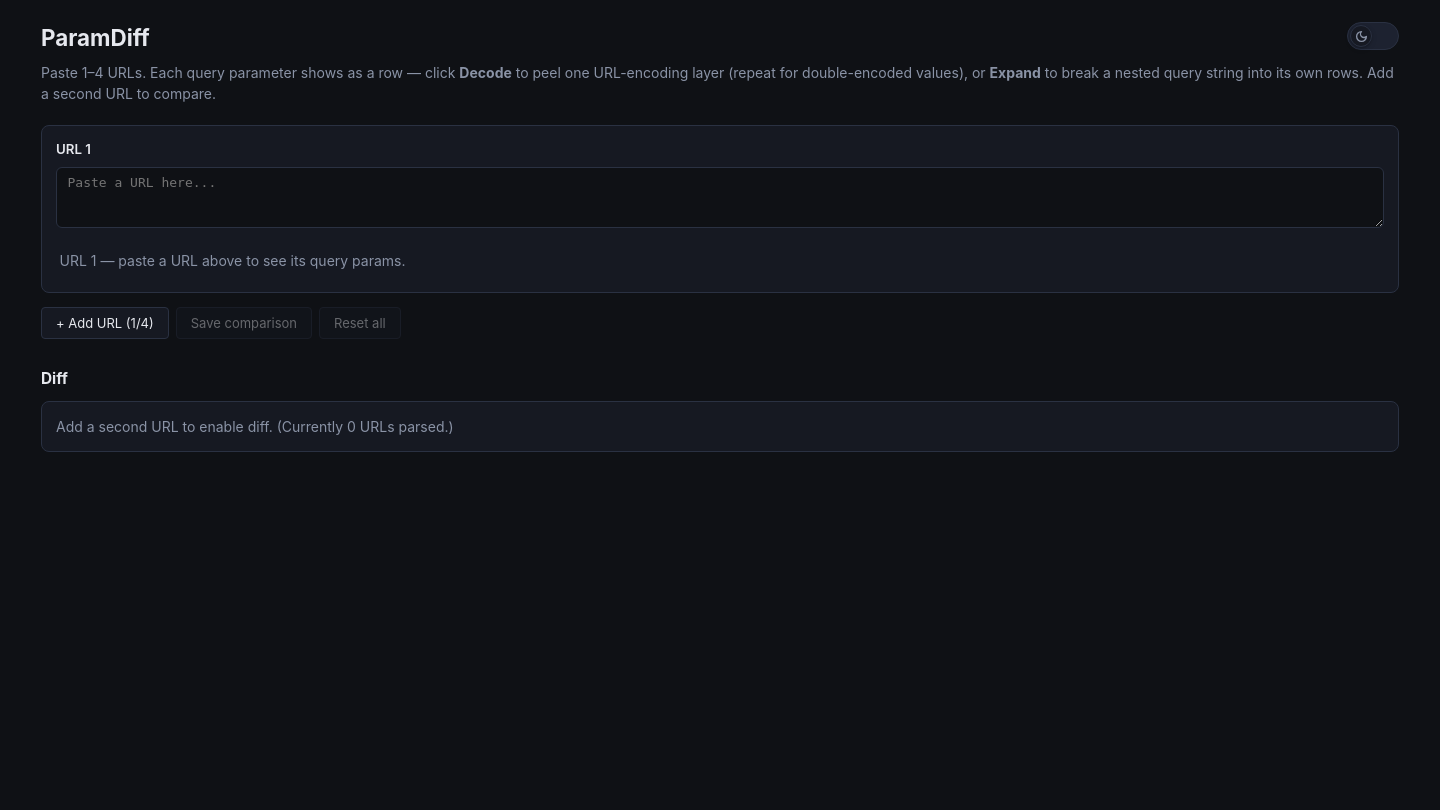
Test case: App — end-to-end interaction › parses a pasted URL into rows and updates the diff after Decode
This screenshot has width=1440, height=810.
Step 1. Click the button "+ Add URL (1/4)" → point(105, 323), box [41,307,169,339]
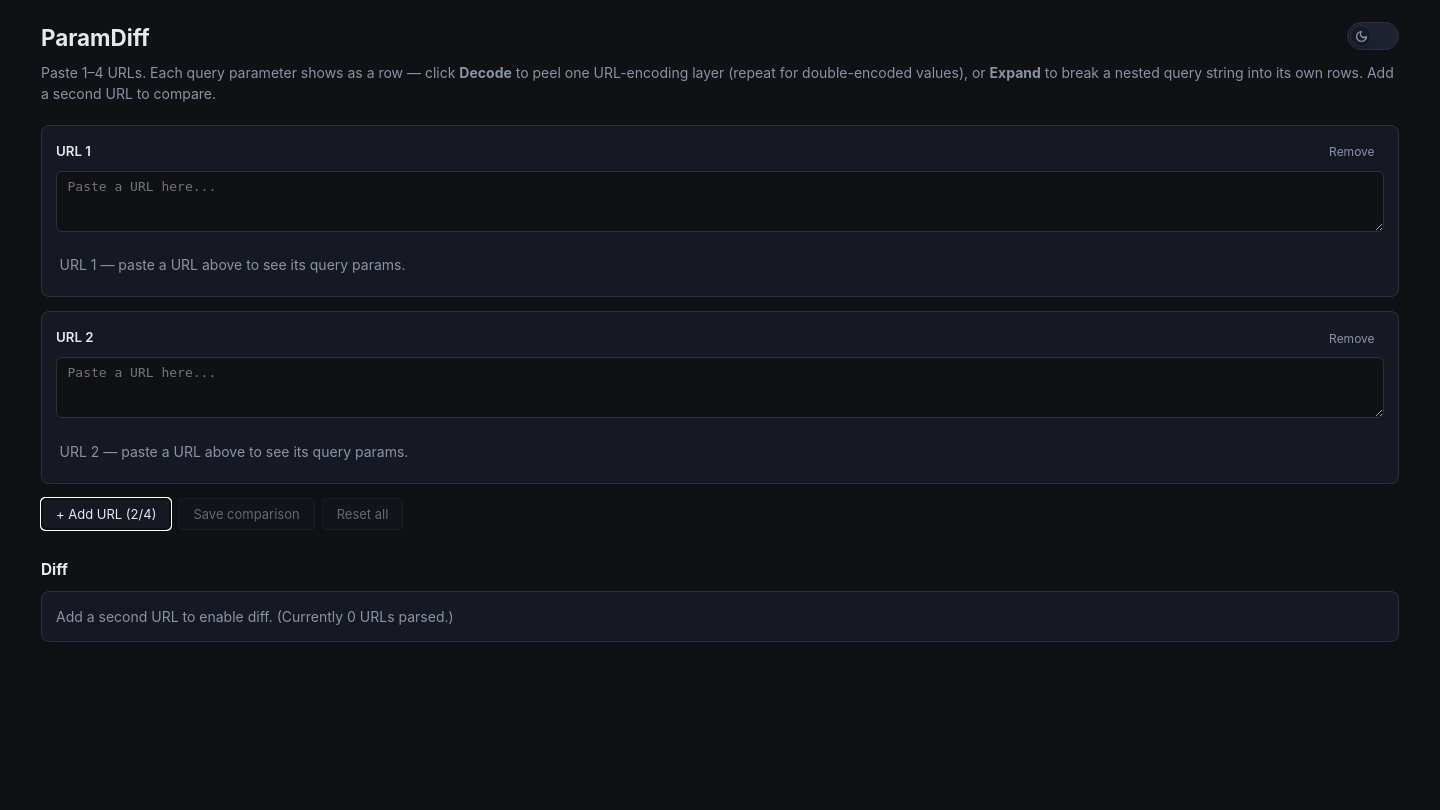
// Two URLs that differ only by URL-encoding of "hello world".
Step 2. Type "https://x.com/?q=hello%20world" into the text box labelled "URL 1" → point(720, 201), box [56,171,1384,232]
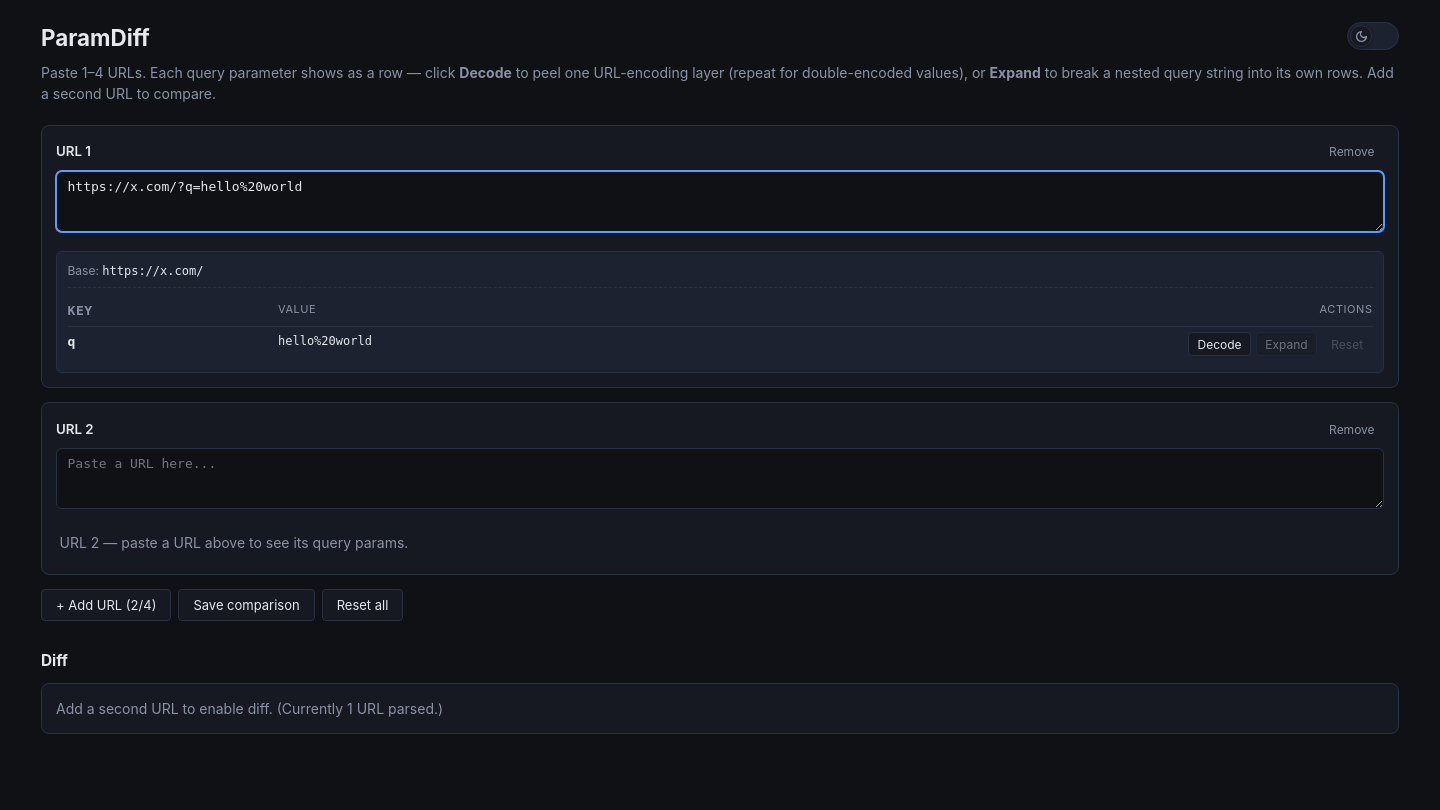
Step 3. Type "https://y.com/?q=hello world" into the text box labelled "URL 2" → point(720, 479), box [56,448,1384,510]
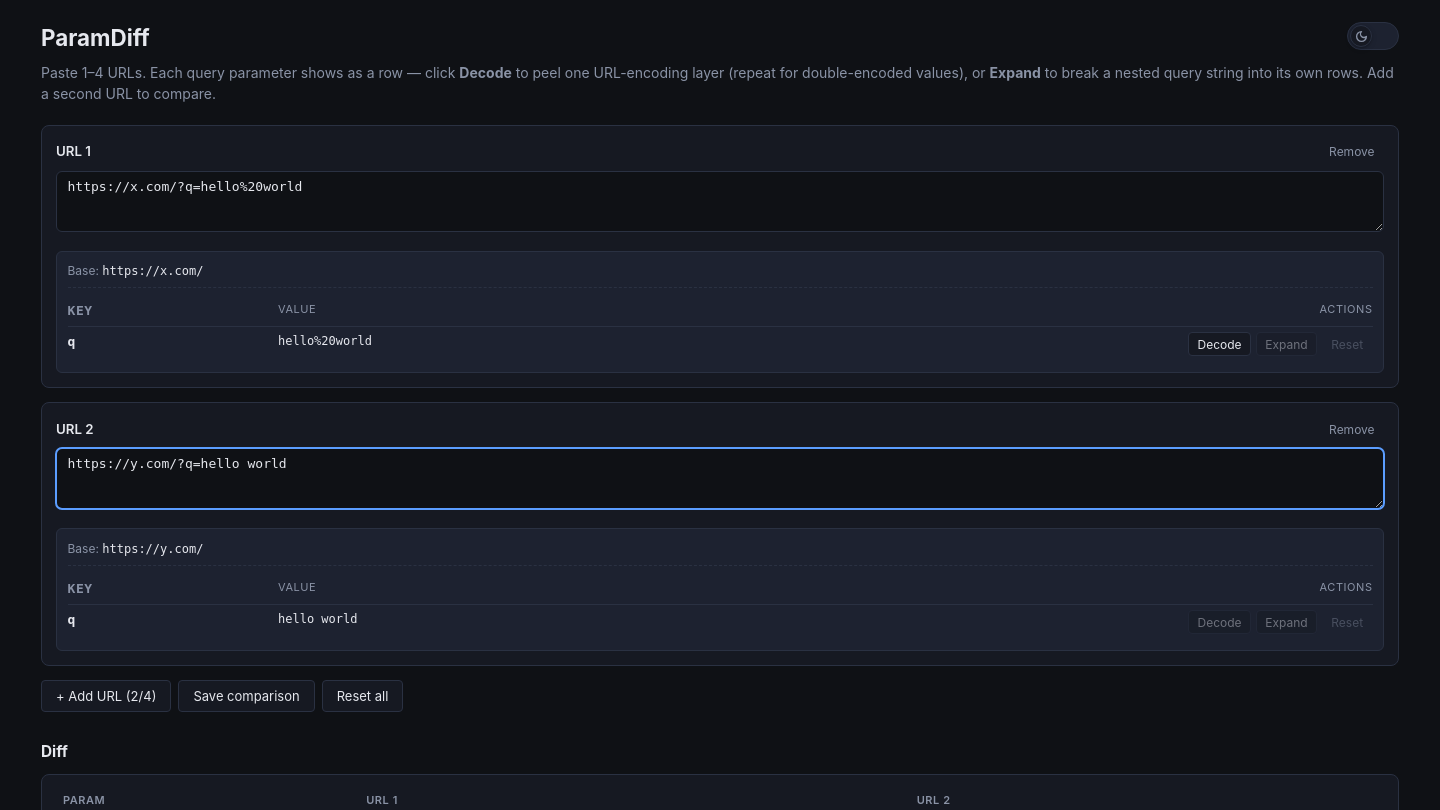
// Click Decode on URL 1 — there are two Decode buttons (one per slot).
Step 4. Click the 1st button "Decode" → point(1220, 344), box [1188,332,1251,356]
(page scrolled)
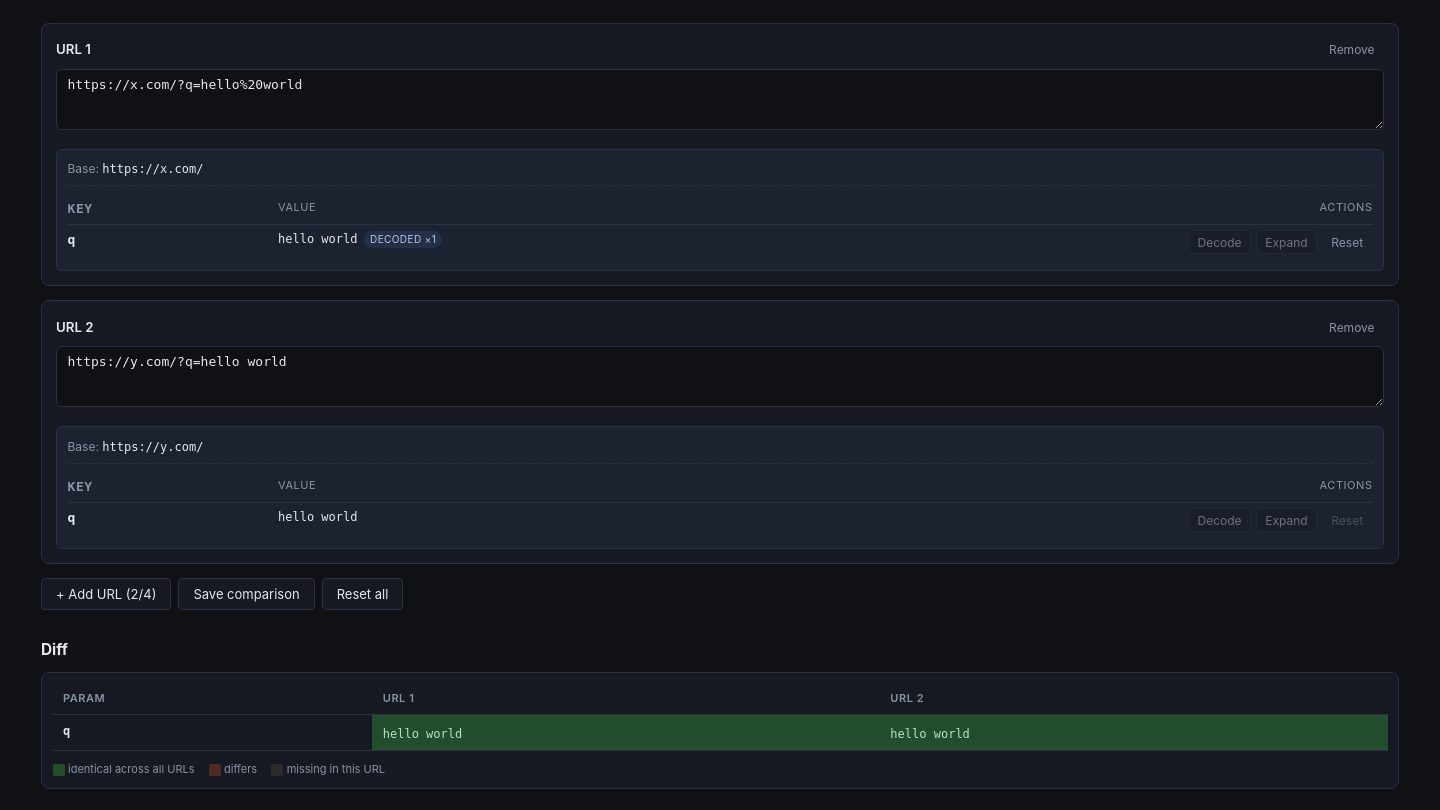
Now the 2nd cell "hello world" is shown, box [880,714,1388,750]
Now the 1st cell "hello world" is shown, box [372,714,880,750]
